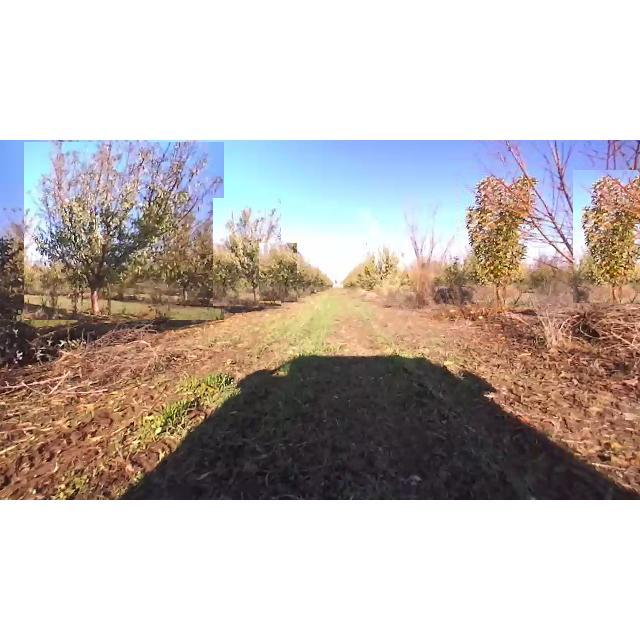direk: (24, 142, 224, 320), (472, 141, 640, 303), (457, 170, 539, 310), (213, 198, 281, 306), (398, 195, 456, 299), (259, 243, 297, 301), (362, 246, 402, 298)
